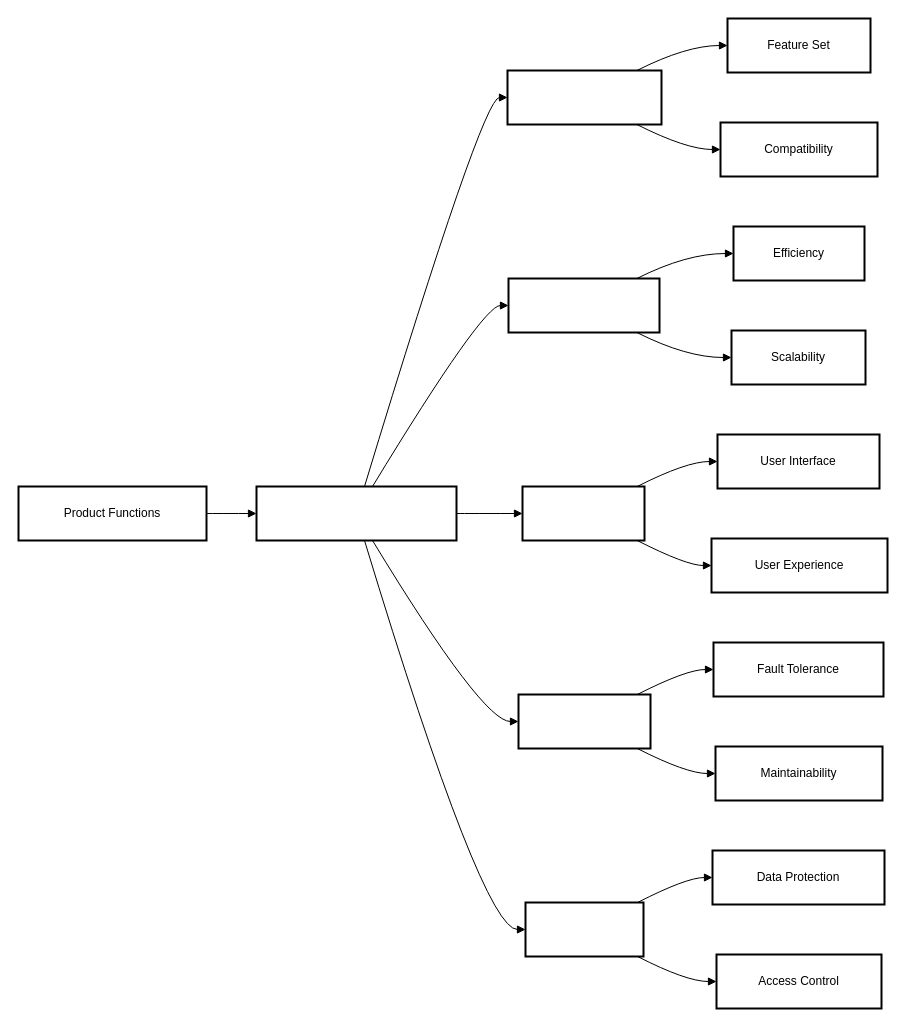
The diagram is 905 pixels wide and 1026 high, and some of its shapes have lost their labels. Each missing label, with the centre of its shape:
"Functionality" goes at point 584,97.
"Performance" goes at point 583,305.
"Reliability" goes at point 584,721.
"Security" goes at point 584,929.
"Technical Functions" goes at point 356,513.
"Usability" goes at point 583,513.
